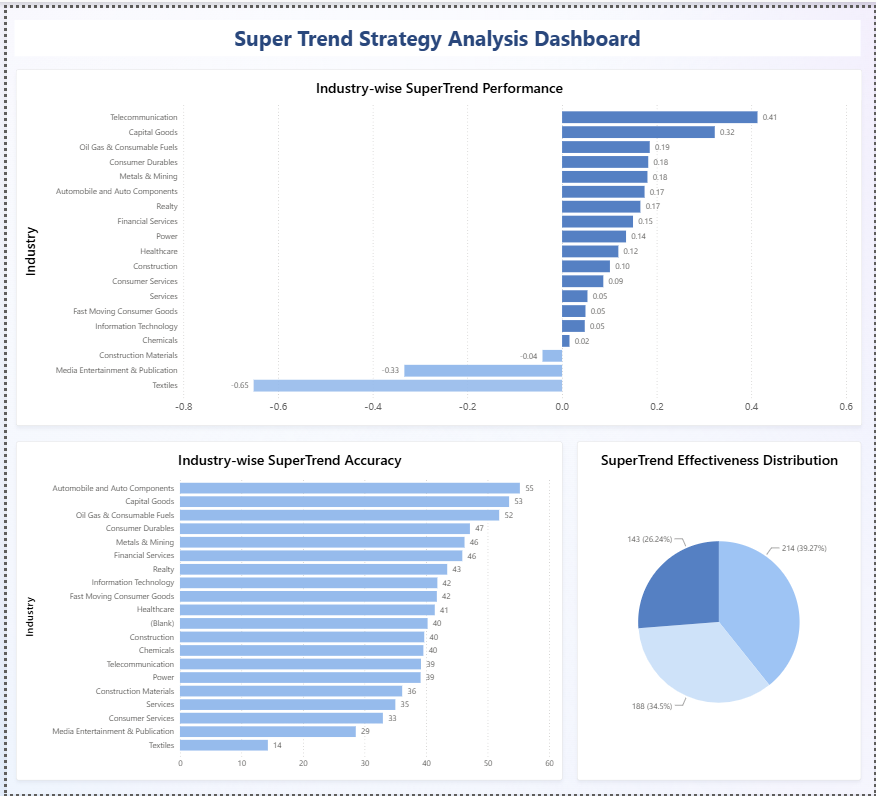

Layout of this report page (visuals, bound fields, positions):
{"tool":"powerbi","page":{"name":"Page 1","canvas":[1323,1200],"ordinal":0},"visuals":[{"type":"clusteredBarChart","title":"Industry-wise SuperTrend Performance","fields":{"Category":["nifty500.Column2"],"Y":["Avg(final_summary_10_2.Annual_Return)"]},"box":[13.3,93.3,1290,543.3],"z":0},{"type":"pieChart","title":"SuperTrend Effectiveness Distribution","fields":{"Category":["final_summary_10_2.Category"],"Y":["CountNonNull(final_summary_10_2.Symbol)"]},"box":[870,660,433.3,516.7],"z":1000},{"type":"clusteredBarChart","title":"Industry-wise SuperTrend Accuracy","fields":{"Category":["nifty500.Industry"],"Y":["Avg(final_summary_10_2.Accuracy)"]},"box":[13.3,660,833.3,516.7],"z":2000},{"type":"textbox","box":[12.5,17.5,1290,55],"z":2001}]}

Visuals, with their boxes in screenshot pixels (x1, y1, x2, y2), scaled from the page's 1323x1200 canvas onto the 876x796 screenshot:
"Industry-wise SuperTrend Performance" clusteredBarChart: box(9, 62, 863, 422)
"SuperTrend Effectiveness Distribution" pieChart: box(576, 438, 863, 781)
"Industry-wise SuperTrend Accuracy" clusteredBarChart: box(9, 438, 561, 781)
textbox: box(8, 12, 862, 48)
